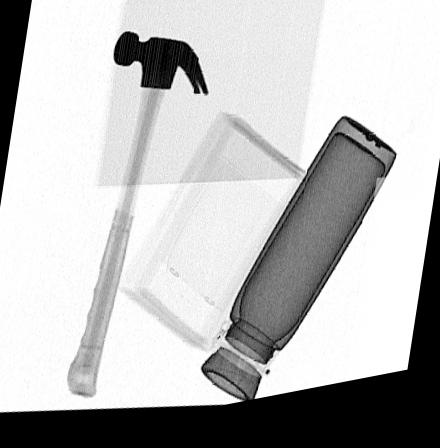Hammer: (66, 33, 211, 400)
